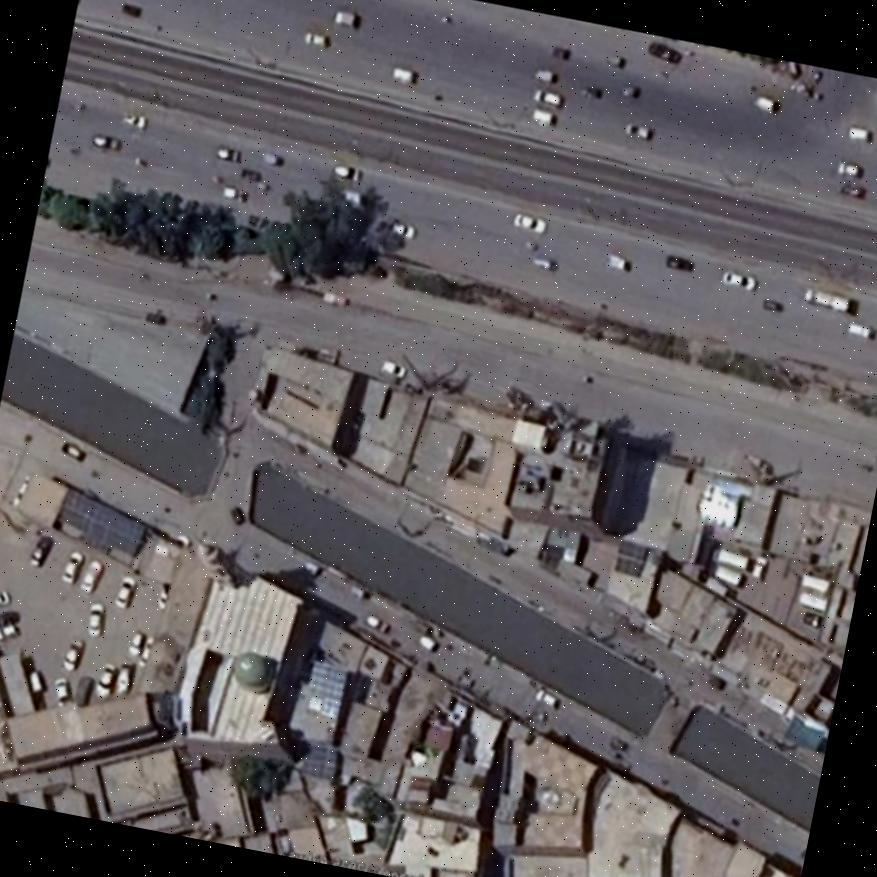Solarpanel: (55, 486, 144, 556), (306, 659, 344, 718), (299, 740, 336, 776), (613, 540, 646, 573)
